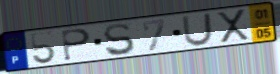5: (29, 29, 58, 66)
7: (141, 18, 167, 53)
P: (60, 28, 93, 63)
S: (102, 22, 137, 58)
U: (181, 12, 215, 48)
X: (214, 8, 251, 45)
